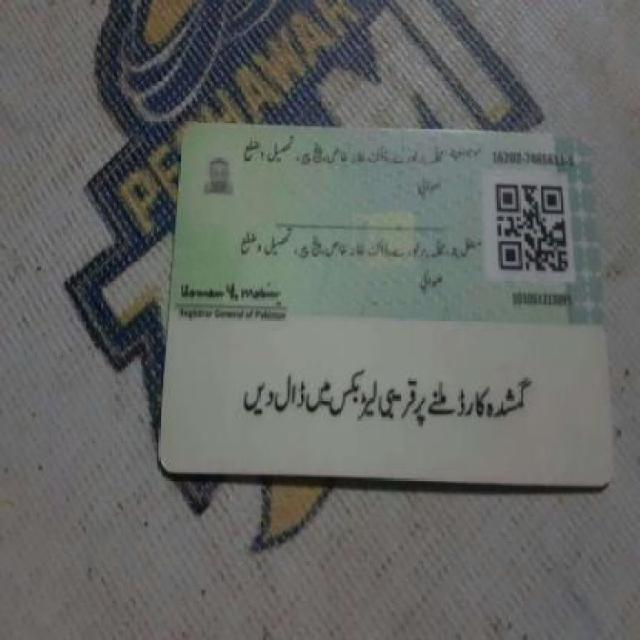Back: (162, 116, 616, 502)
